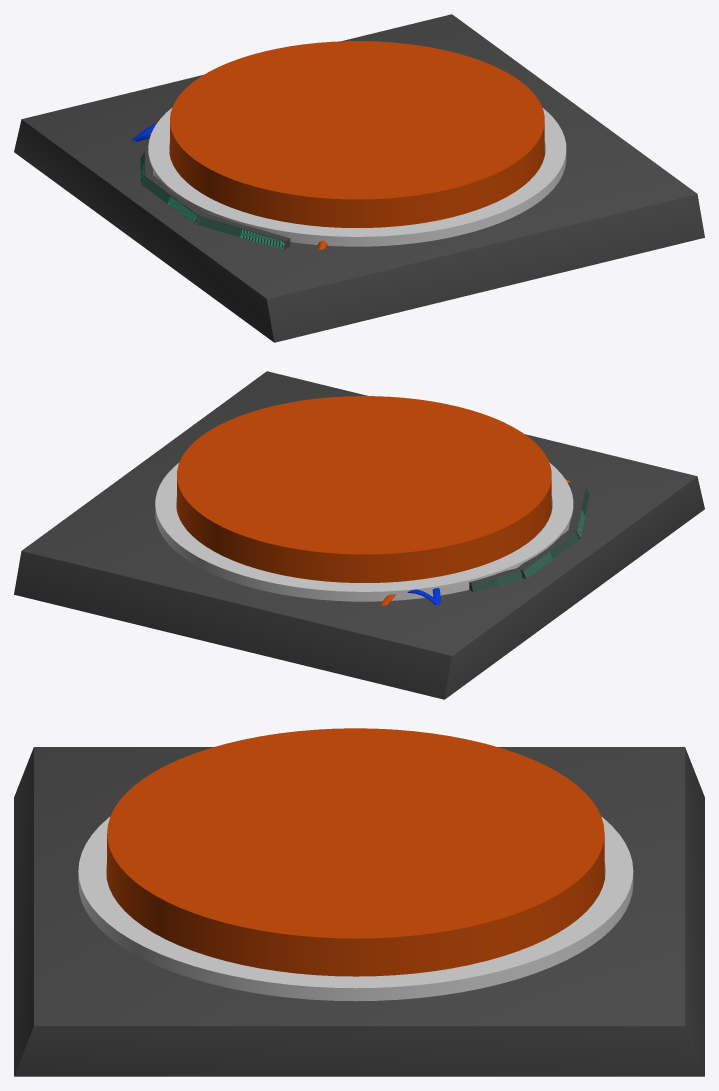
File: выход.FBX
The picture shows the model from 3 angles, top to bottom: view 1: azimuth 30°, elevation 25°; view 2: azimuth 150°, elevation 25°; view 3: azimuth 270°, elevation 25°; orthographic projection. The views are drawn at different scales.
Parts seen in each view (by area): view 1: ChamferBox001, Cylinder022, Tube001, Box004, Box003, Object001, Object; view 2: ChamferBox001, Cylinder022, Tube001, Box003, Box005, Box004, Object; view 3: ChamferBox001, Cylinder022, Tube001.
Boxes of the visible parts, left/top/right/bottom form: ChamferBox001: left=14, top=14, right=704, bottom=342; Cylinder022: left=170, top=41, right=544, bottom=227; Tube001: left=148, top=108, right=566, bottom=246; Box004: left=197, top=213, right=290, bottom=250; Box003: left=141, top=174, right=204, bottom=223; Object001: left=197, top=216, right=284, bottom=249; Object: left=142, top=177, right=196, bottom=222; ChamferBox001: left=14, top=371, right=704, bottom=699; Cylinder022: left=177, top=396, right=551, bottom=582; Tube001: left=155, top=462, right=573, bottom=601; Box003: left=516, top=530, right=579, bottom=578; Box005: left=469, top=568, right=522, bottom=592; Box004: left=568, top=486, right=589, bottom=538; Object: left=524, top=533, right=578, bottom=578; ChamferBox001: left=14, top=747, right=704, bottom=1076; Cylinder022: left=107, top=728, right=604, bottom=976; Tube001: left=78, top=816, right=633, bottom=1001.
Size of the model in its own units: 96.59 by 16.43 by 101.
